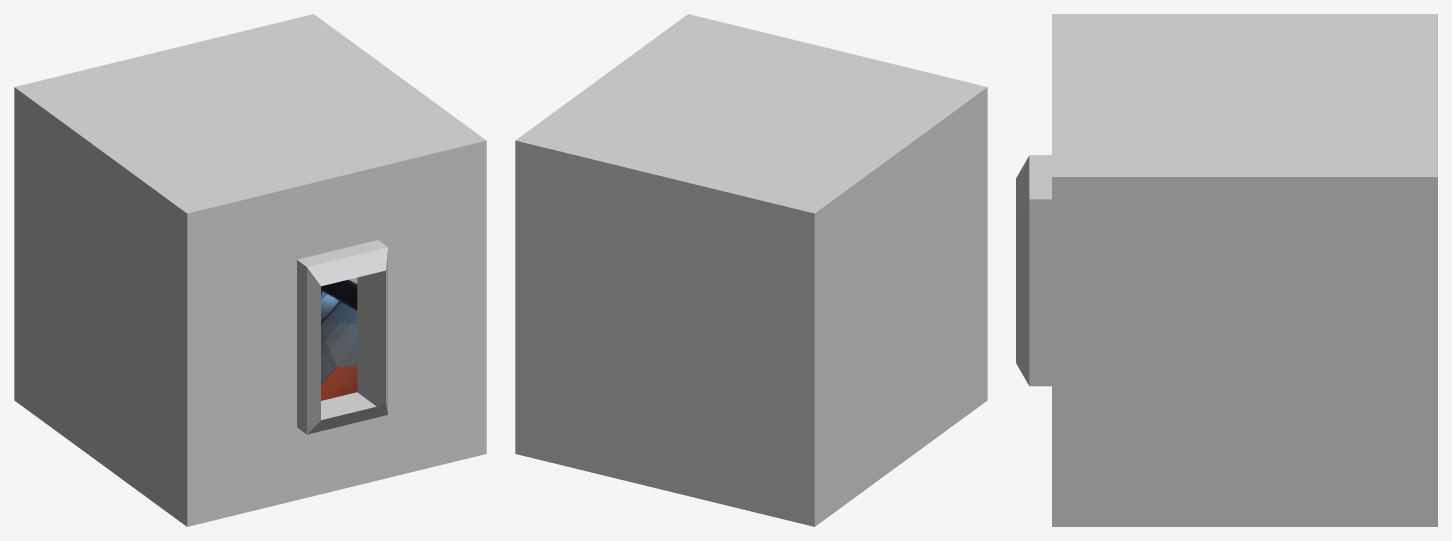
File: 360_sphere_full_Door_smooth.fbx
The picture shows the model from 3 angles, left to right: view 1: azimuth 30°, elevation 25°; view 2: azimuth 150°, elevation 25°; view 3: azimuth 270°, elevation 25°; orthographic projection. The views are drawn at different scales.
Parts seen in each view (by area): view 1: OccluderCube, Door, globe; view 2: OccluderCube; view 3: OccluderCube, Door.
Part boxes in pixels (<box>): OccluderCube: <box>14,14,486,526</box>; Door: <box>297,240,387,434</box>; globe: <box>321,277,357,400</box>; OccluderCube: <box>515,14,987,526</box>; OccluderCube: <box>1052,14,1437,526</box>; Door: <box>1016,155,1051,386</box>.
Size of the model in its own units: 3100 by 3100 by 3388.
1 material, 1 textured.
